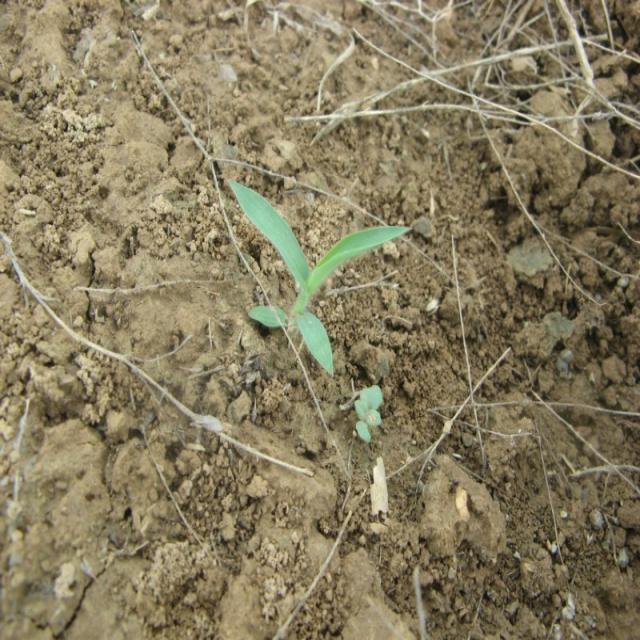bg: (227, 176, 412, 377)
